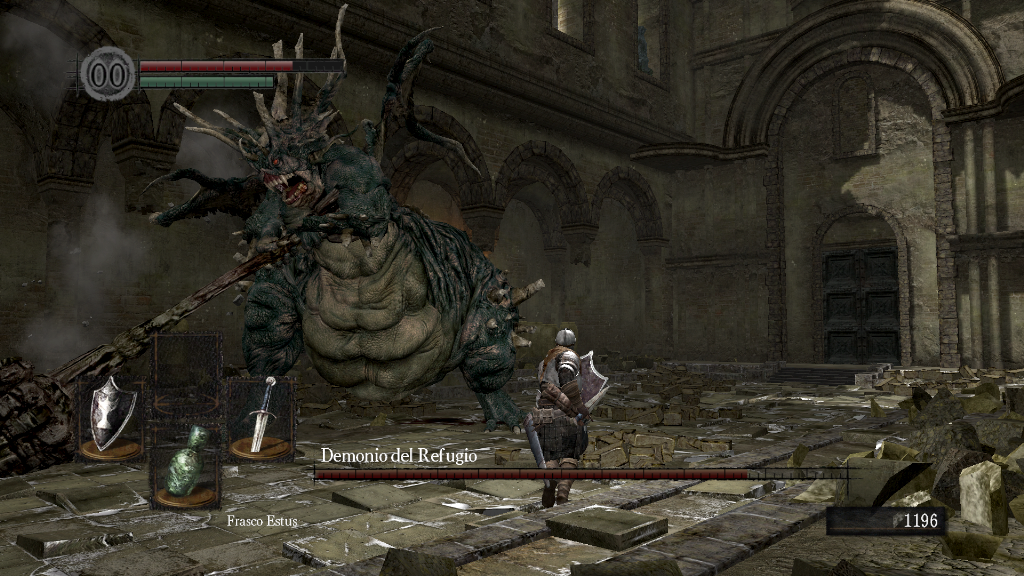asylumDemon: (144, 1, 534, 437)
bossHP: (314, 469, 847, 479)
health: (138, 58, 343, 71)
humanity: (80, 45, 136, 102)
player: (525, 326, 611, 502)
souls: (825, 506, 945, 536)
stamina: (138, 74, 274, 88)
